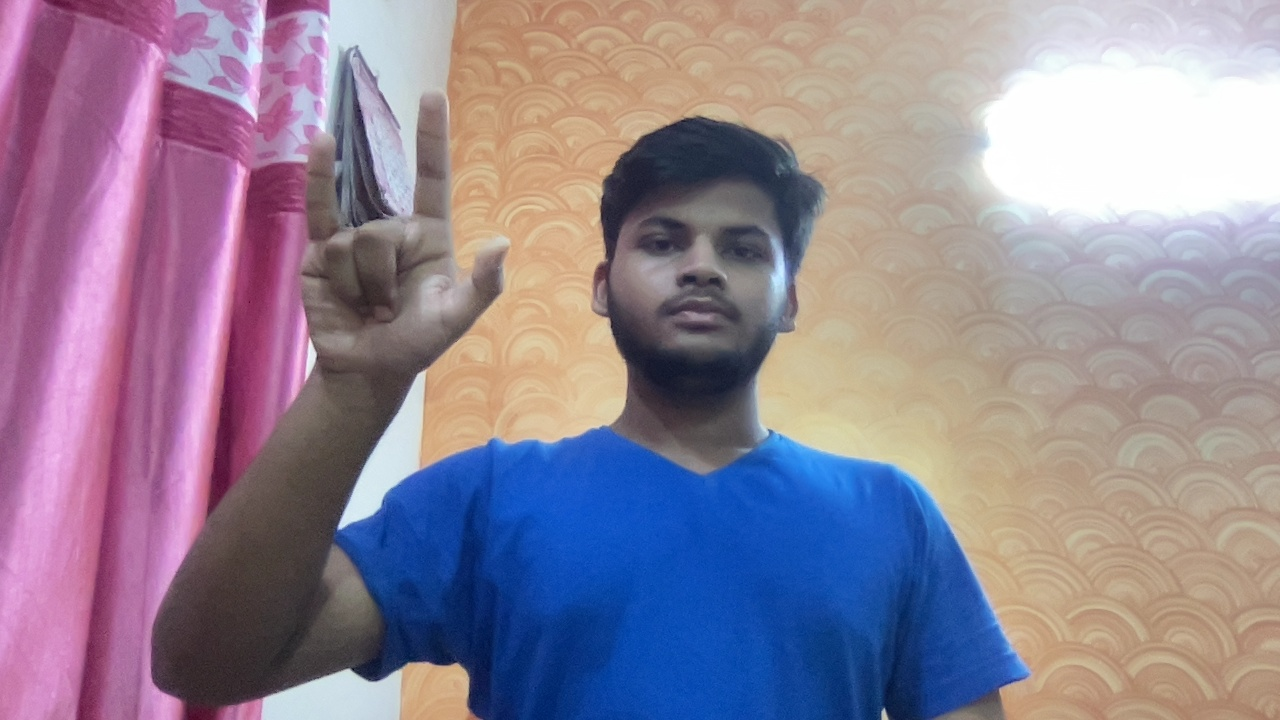iloveyou: (263, 84, 526, 406)
